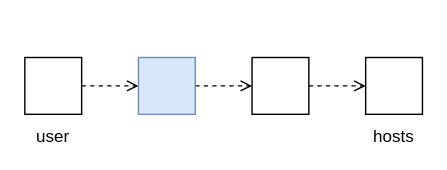
The diagram is 447 pixels wide and 170 high, and some of its shapes have lost their labels. Here are the shapes that lost their labels. From the top down, the centre of each, then its label:
At pixel 166 85: "applicatoin".
At pixel 280 85: "processes".
